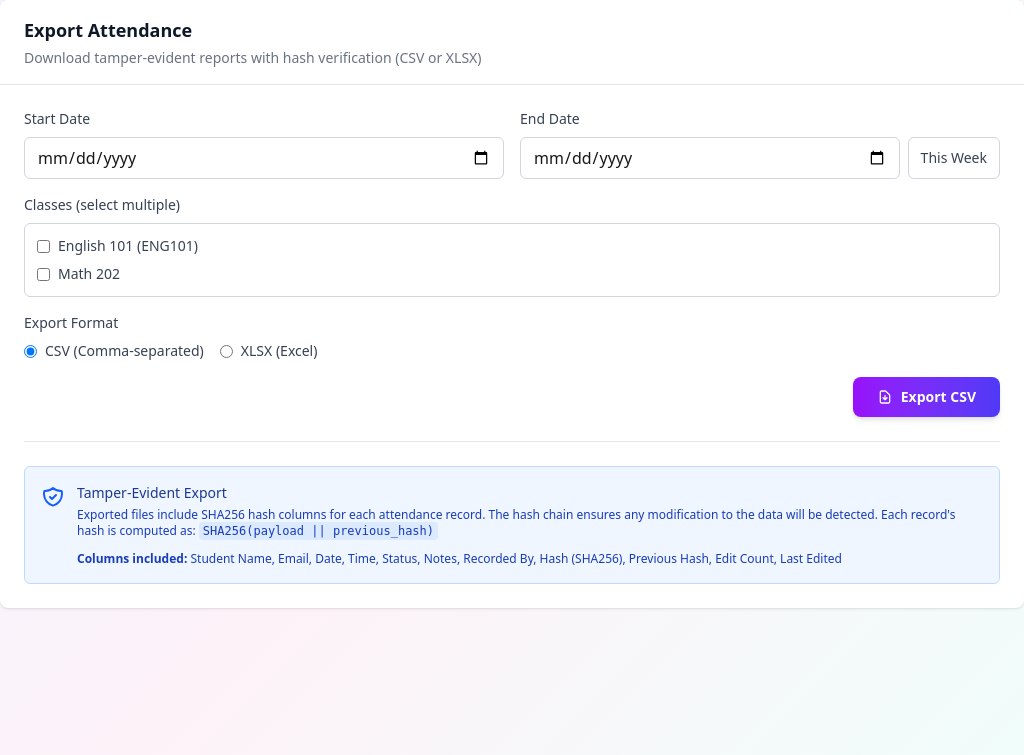
it: AttendanceExport Component › should handle JSON response with signed URL
Note: Select a class and set dates
Click the checkbox labelled "English 101 (ENG101)" at (44, 246), box [37, 240, 50, 252]
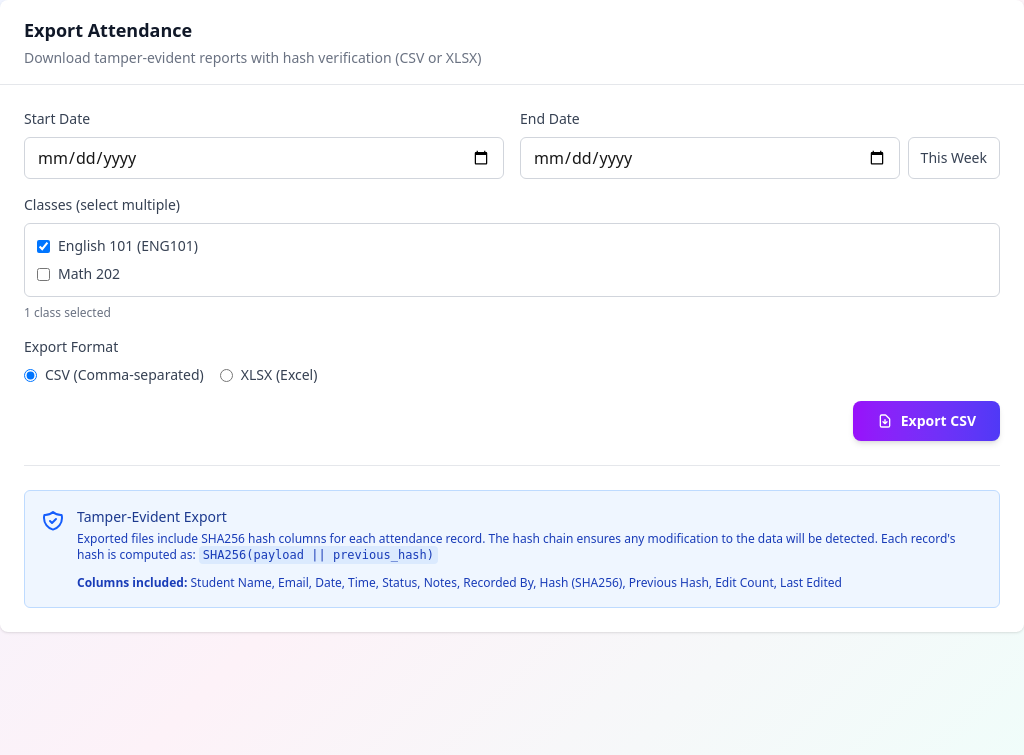
Type "2024-01-08" into the date field labelled "Start Date" at (264, 158), box [24, 137, 504, 179]
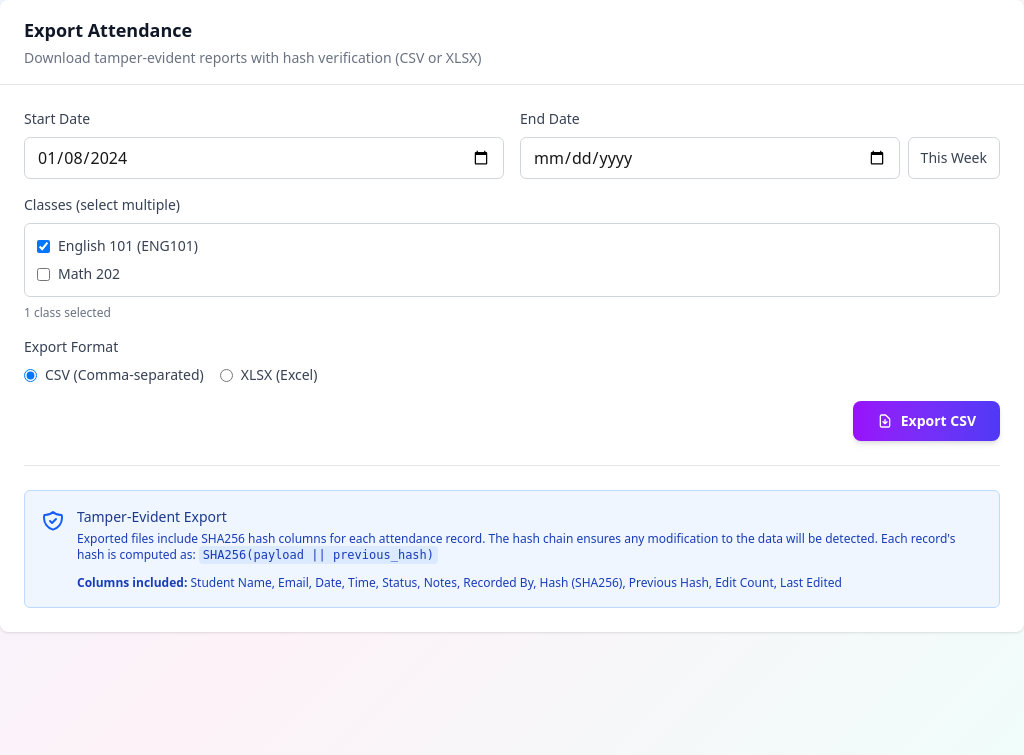
Type "2024-01-14" into the date field labelled "End Date" at (710, 158), box [520, 137, 900, 179]
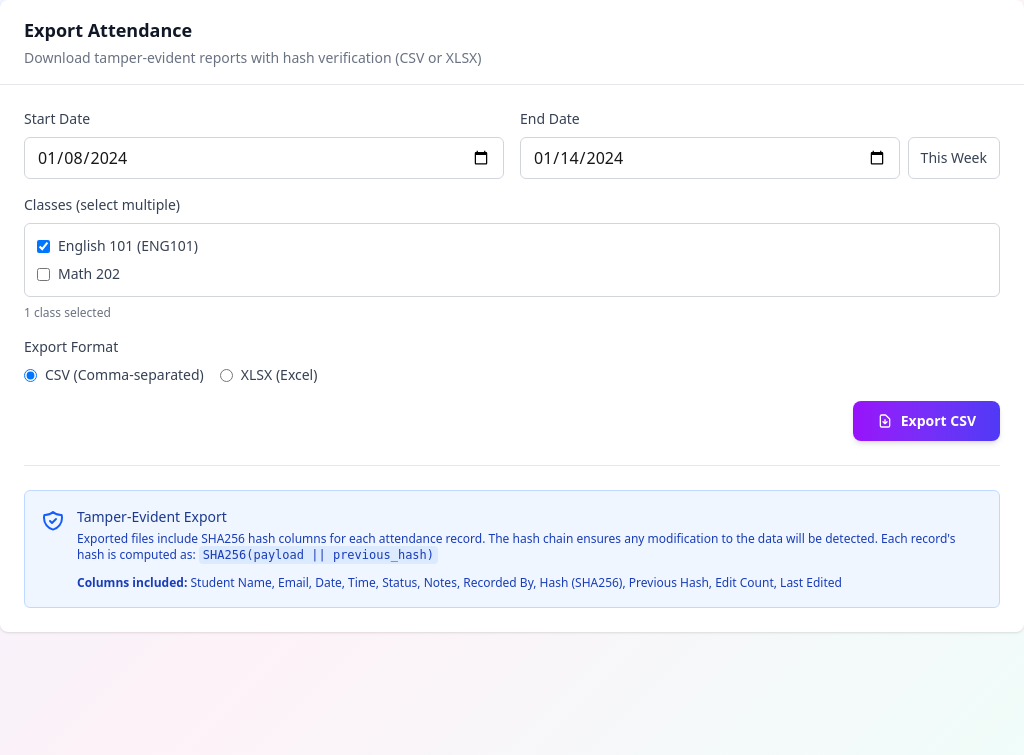
Click the button "Export CSV" at (926, 421), box [853, 401, 1000, 441]
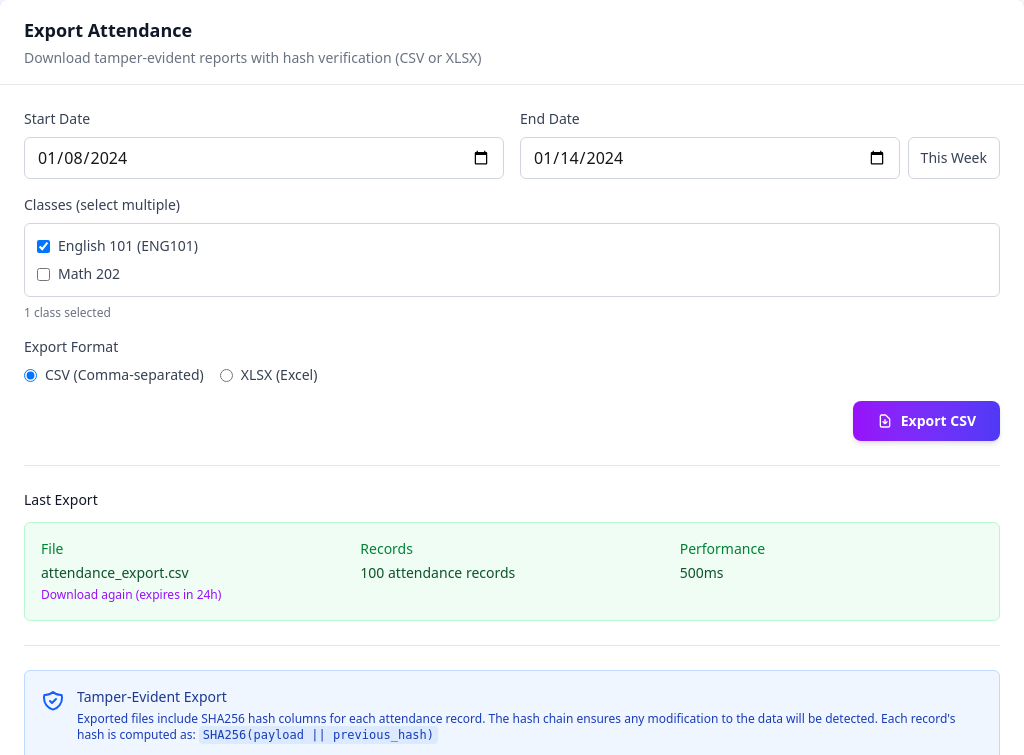
expect the text "100 attendance records" is shown: met, box [360, 563, 515, 582]
expect the text "500ms" is shown: met, box [680, 563, 724, 582]
